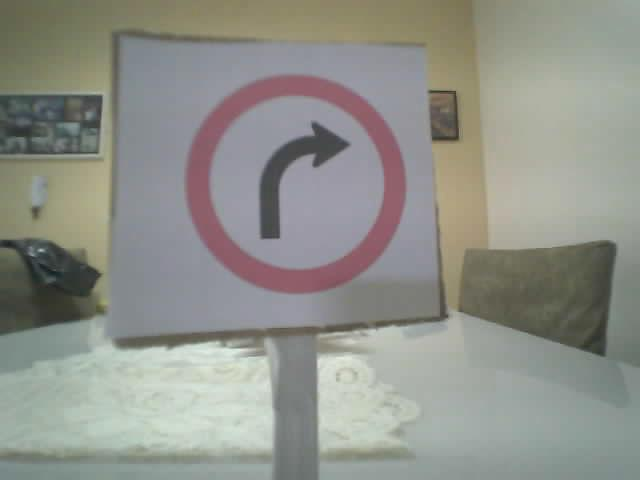R-25b_direita: (183, 71, 406, 292)
